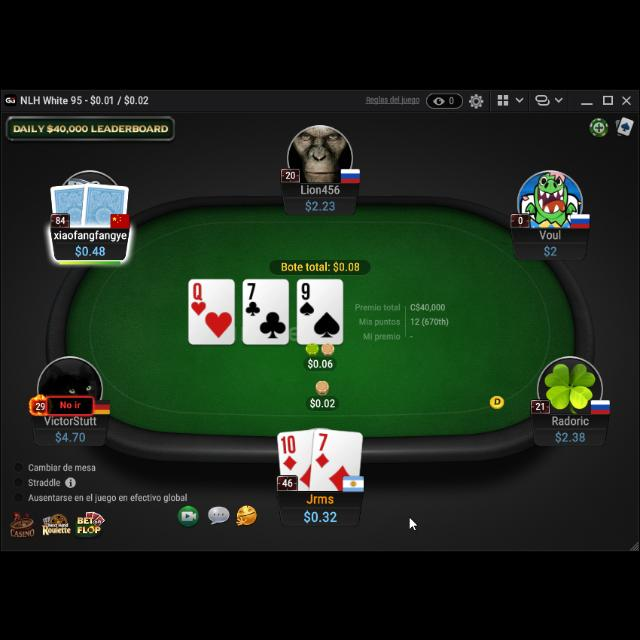7c: (244, 280, 262, 316)
7d: (314, 428, 332, 468)
9s: (298, 280, 316, 316)
Qh: (190, 280, 208, 314)
Td: (280, 431, 300, 469)
bet_text: (306, 354, 334, 368), (310, 394, 336, 408)
card_back: (80, 178, 130, 228), (48, 178, 92, 226)
dealer: (487, 391, 507, 409), (488, 390, 506, 408)
pot_text: (280, 259, 362, 271)
stack_text: (303, 506, 339, 522), (74, 241, 106, 257), (304, 197, 336, 211), (554, 426, 586, 440), (54, 427, 86, 441), (542, 240, 558, 252)
